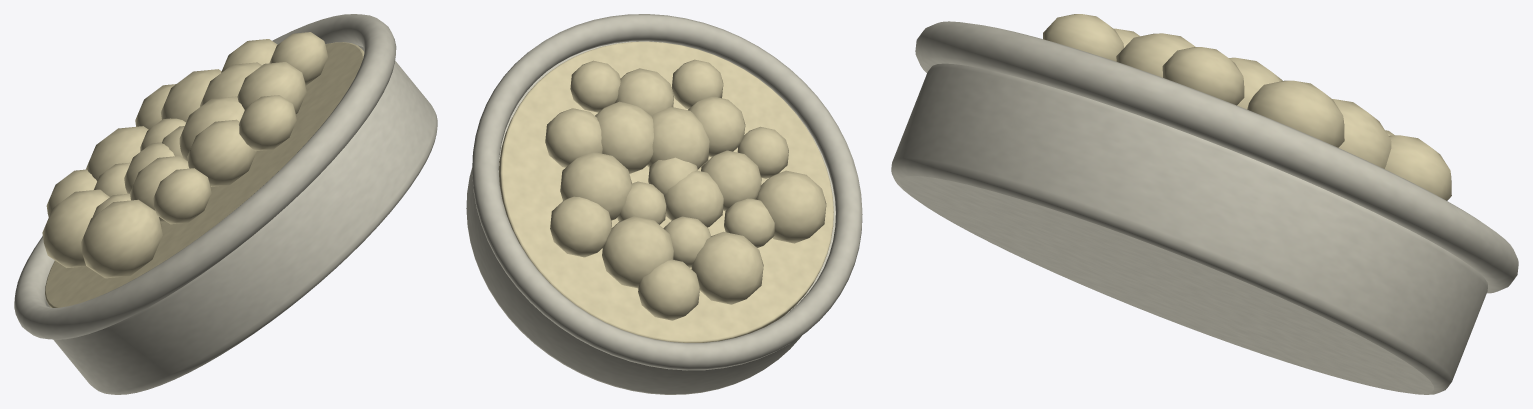
The picture shows the model from 3 angles, left to right: view 1: azimuth 30°, elevation 25°; view 2: azimuth 150°, elevation 25°; view 3: azimuth 270°, elevation 25°; orthographic projection. The views are drawn at different scales.
Visible parts, largest first — view 1: Thick-walled sample vessel; view 2: Thick-walled sample vessel; view 3: Thick-walled sample vessel.
Boxes of the visible parts, bbox=[...] form: Thick-walled sample vessel: bbox=[14, 14, 437, 394]; Thick-walled sample vessel: bbox=[466, 14, 862, 394]; Thick-walled sample vessel: bbox=[891, 14, 1518, 394].
Bounding box in the file's own units: 0.9707 × 0.7871 × 1.
Materials: 1 (1 with a texture image).
